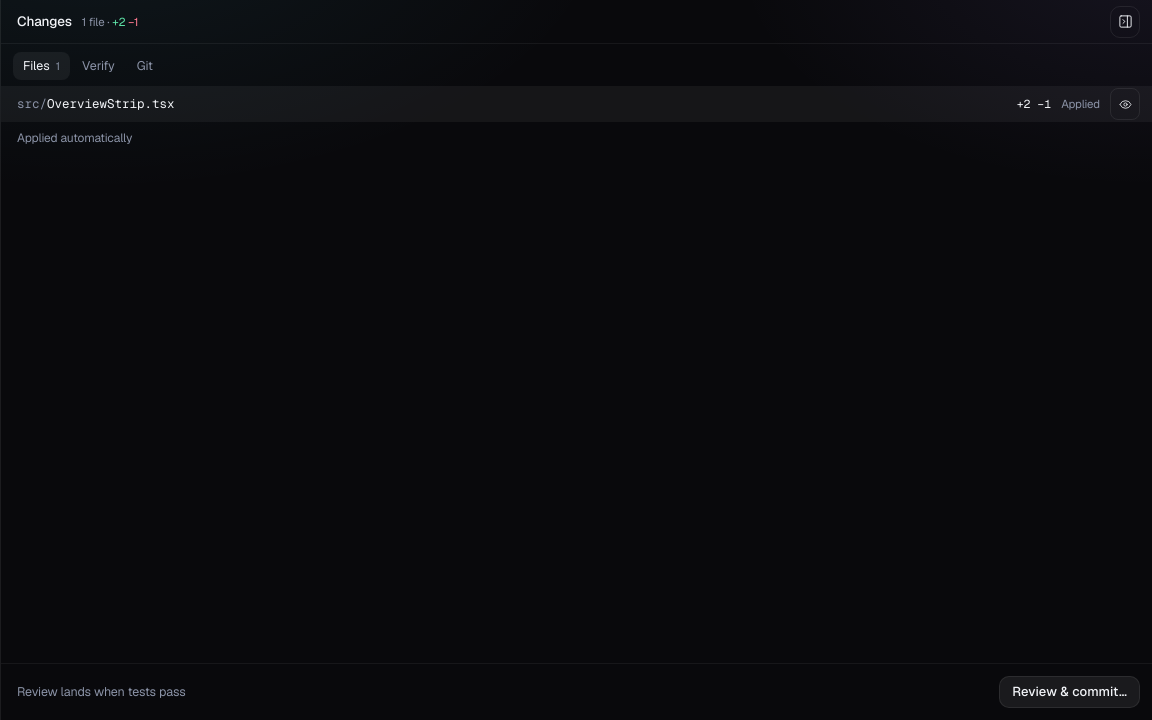
Test case: ChangesDock — hunk preview › View diff opens the first hunk header, context, and colored lines (closed until clicked, DiffPanel-style)
What coordinates should you click on to do the following:
click the button named "View diff"
I would click on:
 (1125, 104)
Its box is [1110,88,1140,120].
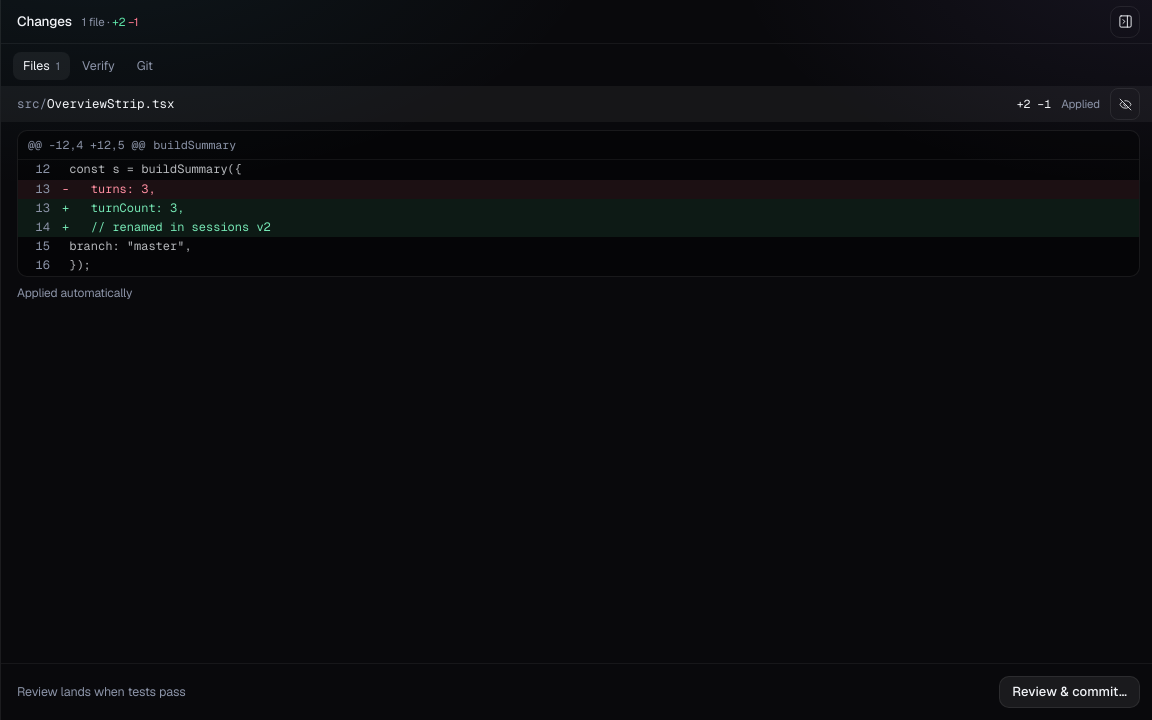
Check: the text "@@ -12,4 +12,5 @@" is shown, box [28,136,145,154]
Check: the text "buildSummary" is shown, box [153,136,236,154]
Check: the text "turnCount: 3," is shown, box [62,200,184,216]
